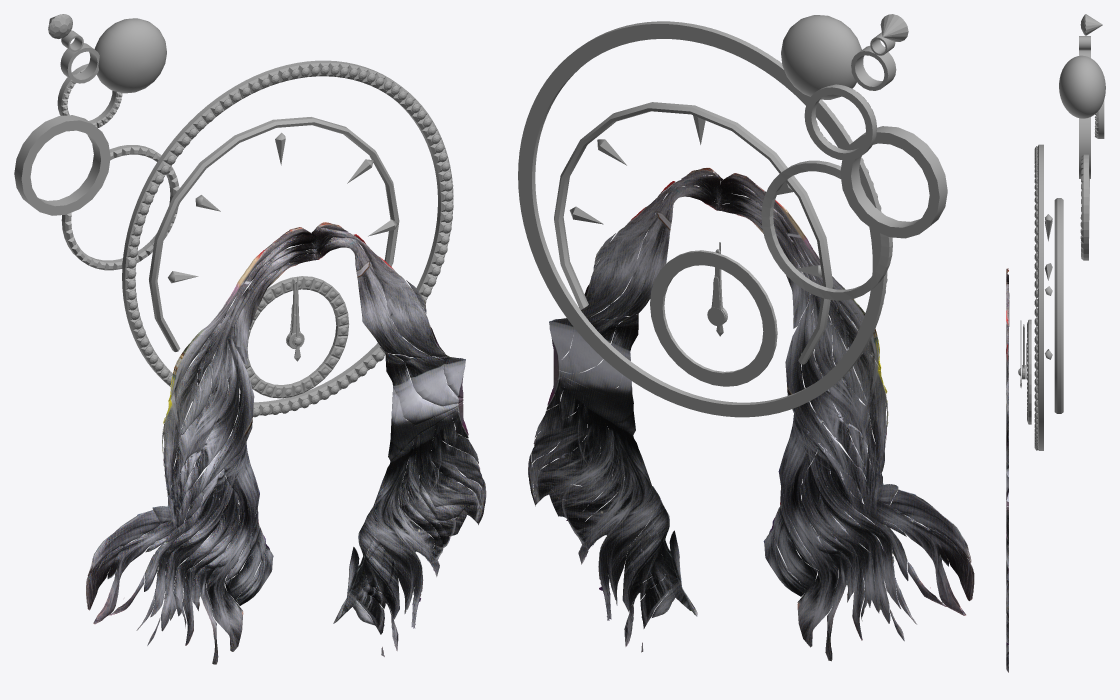
The model's file is HairScene.fbx.
The picture shows the model from 3 angles, left to right: view 1: azimuth 30°, elevation 25°; view 2: azimuth 150°, elevation 25°; view 3: azimuth 270°, elevation 25°; orthographic projection. The views are drawn at different scales.
Visible parts, largest first — view 1: Hair, Hair_smooth, Frame_3, Fram_3_dia, Frame_2, purpleSphere, Frame_4, cloackFrame_1, Frame_5, FramePoint, clockFrameDia, Frame_6 (+1 smaller); view 2: Hair, Hair_smooth, Frame_3, Frame_2, cloackFrame_1, purpleSphere, Frame_4, Frame_5, Frame_6, Frame_7, FramePoint; view 3: purpleSphere, Frame_2, Frame_3, Fram_3_dia, Frame_5, Hair_smooth, Hair, Frame_4, cloackFrame_1, FramePoint, Frame_6, dia (+1 smaller).
Part boxes in pixels (left/top/right/bottom): Hair: left=86, top=222, right=486, bottom=664; Hair_smooth: left=86, top=222, right=483, bottom=663; Frame_3: left=122, top=60, right=453, bottom=415; Fram_3_dia: left=127, top=65, right=453, bottom=417; Frame_2: left=149, top=117, right=399, bottom=351; purpleSphere: left=94, top=18, right=166, bottom=93; Frame_4: left=14, top=115, right=110, bottom=215; cloackFrame_1: left=235, top=276, right=349, bottom=398; Frame_5: left=61, top=145, right=179, bottom=270; FramePoint: left=168, top=132, right=398, bottom=283; clockFrameDia: left=240, top=280, right=347, bottom=396; Frame_6: left=57, top=63, right=122, bottom=127; Hair: left=528, top=168, right=974, bottom=661; Hair_smooth: left=528, top=168, right=974, bottom=660; Frame_3: left=518, top=21, right=887, bottom=417; Frame_2: left=554, top=102, right=833, bottom=364; cloackFrame_1: left=650, top=250, right=777, bottom=386; purpleSphere: left=781, top=15, right=863, bottom=99; Frame_4: left=840, top=126, right=947, bottom=238; Frame_5: left=761, top=160, right=892, bottom=300; Frame_6: left=804, top=84, right=876, bottom=160; Frame_7: left=851, top=46, right=896, bottom=90; FramePoint: left=569, top=115, right=822, bottom=277; purpleSphere: left=1059, top=55, right=1105, bottom=118; Frame_2: left=1054, top=198, right=1063, bottom=413; Frame_3: left=1037, top=144, right=1043, bottom=450; Fram_3_dia: left=1034, top=146, right=1038, bottom=450; Frame_5: left=1080, top=154, right=1089, bottom=260; Hair_smooth: left=1006, top=268, right=1009, bottom=671; Hair: left=1006, top=268, right=1009, bottom=672; Frame_4: left=1079, top=117, right=1090, bottom=178; cloackFrame_1: left=1028, top=319, right=1031, bottom=424; FramePoint: left=1045, top=214, right=1052, bottom=359; Frame_6: left=1095, top=100, right=1104, bottom=138; dia: left=1080, top=14, right=1102, bottom=35.
Size of the model in its own units: 360 by 568 by 90.64.
